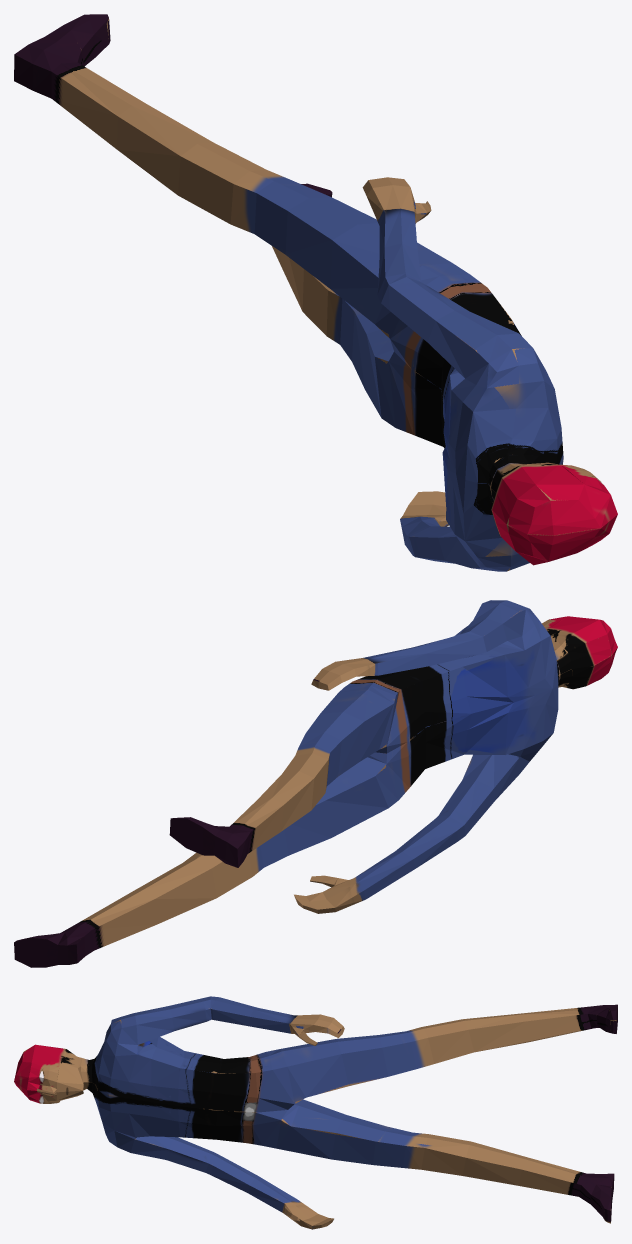
File: mirrorman_000011.obj
3 renders of one model, top to bottom at view 1: azimuth 30°, elevation 25°; view 2: azimuth 150°, elevation 25°; view 3: azimuth 270°, elevation 25°, orthographic. The views are drawn at different scales.
Parts seen in each view (by area): view 1: mirrorman_Cube.001_Material.001; view 2: mirrorman_Cube.001_Material.001; view 3: mirrorman_Cube.001_Material.001.
Part boxes in pixels (box(x1,y1,x2,y2)): mirrorman_Cube.001_Material.001: box(14, 14, 617, 571); mirrorman_Cube.001_Material.001: box(14, 600, 617, 967); mirrorman_Cube.001_Material.001: box(14, 996, 617, 1229).
Bounding box in the file's own units: 0.6515 × 0.6709 × 1.86.
Materials: 1 (1 with a texture image).
